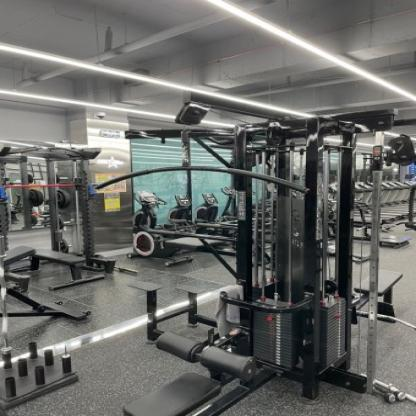Lat Pull Down: (66, 91, 416, 416)
